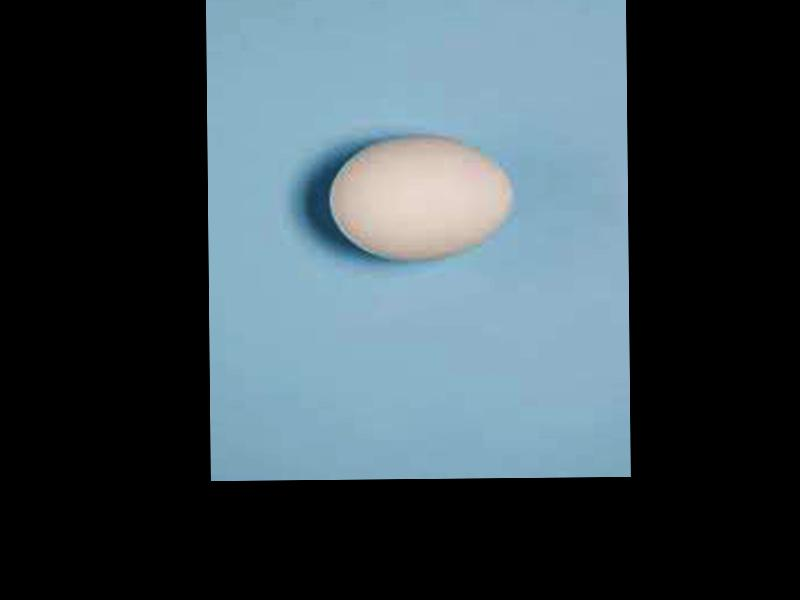Eggs: (328, 134, 515, 260)
